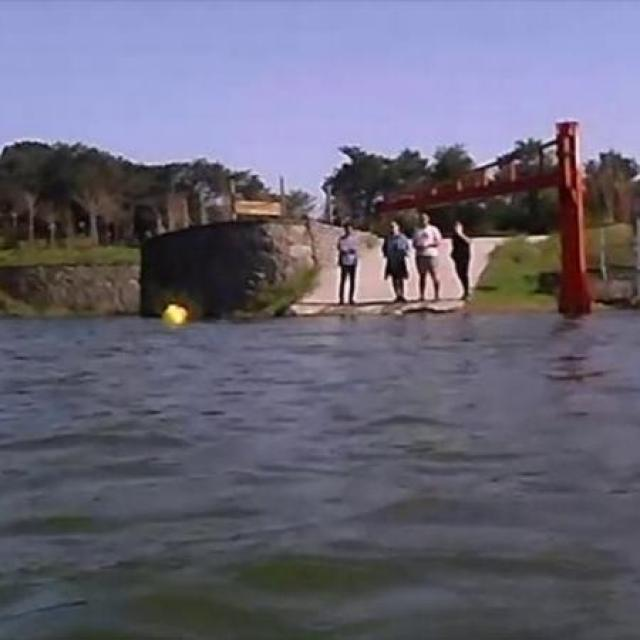buoy: (165, 304, 182, 328)
